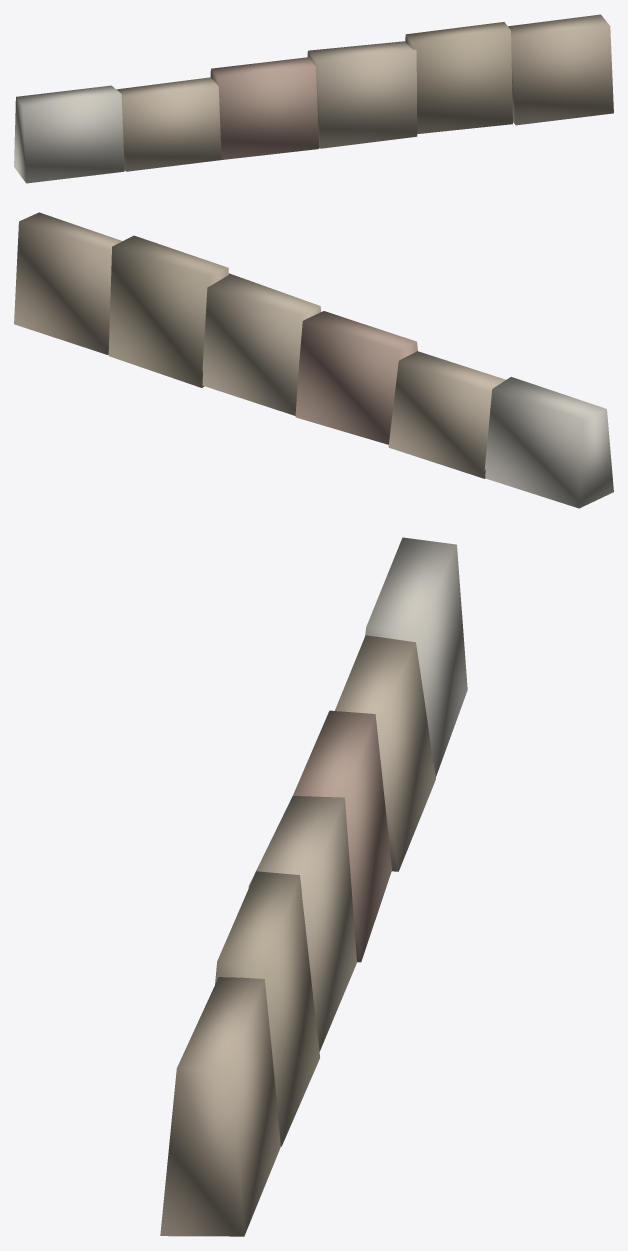
The model's file is farm_16_17_far.glb.
3 renders of one model, top to bottom at view 1: azimuth 30°, elevation 25°; view 2: azimuth 150°, elevation 25°; view 3: azimuth 270°, elevation 25°, orthographic. The views are drawn at different scales.
Visible parts, largest first — view 1: geometry_0; view 2: geometry_0; view 3: geometry_0.
Boxes of the visible parts, box(x1,y1,x2,y2) form: geometry_0: box(14, 14, 613, 183); geometry_0: box(14, 212, 613, 508); geometry_0: box(160, 537, 467, 1236).
Size of the model in its own units: 9.17 by 1.57 by 2.28.
